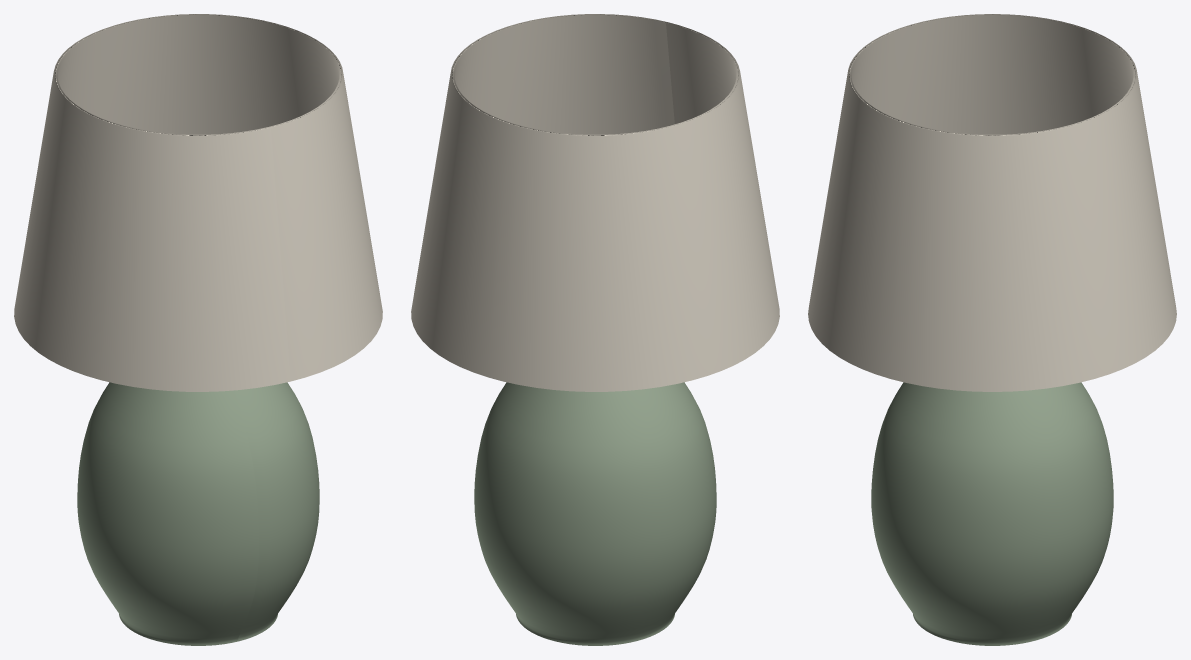
Rendered from sage.glb.
3 renders of one model, left to right at view 1: azimuth 30°, elevation 25°; view 2: azimuth 150°, elevation 25°; view 3: azimuth 270°, elevation 25°, orthographic.
Visible parts, largest first — view 1: Shade, Base; view 2: Shade, Base; view 3: Shade, Base.
Part boxes in pixels (box(x1,y1,x2,y2)): Shade: box(14, 14, 382, 391); Base: box(77, 382, 319, 645); Shade: box(411, 14, 779, 391); Base: box(474, 382, 716, 645); Shade: box(808, 14, 1176, 391); Base: box(871, 382, 1113, 645).
Bounding box in the file's own units: 0.28 × 0.45 × 0.28.
